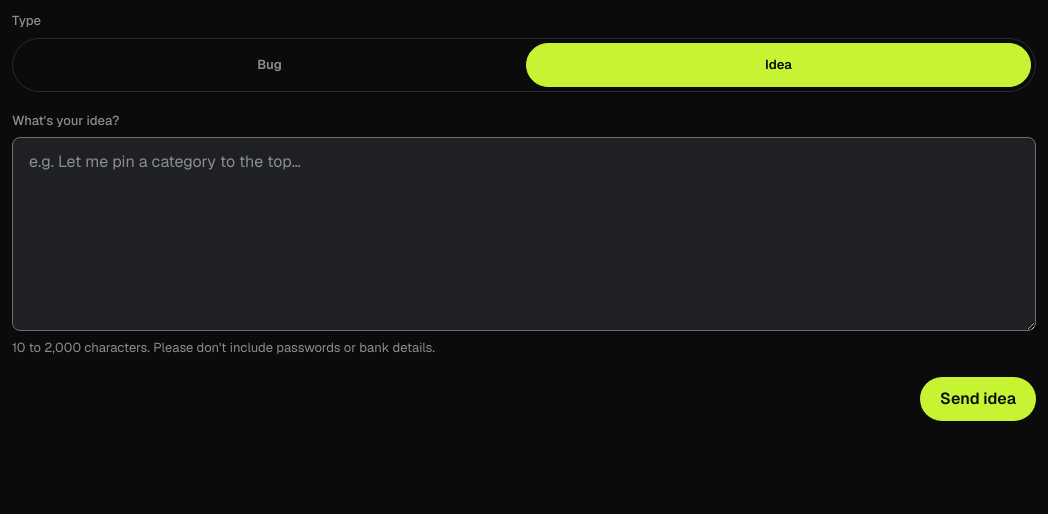
Test: FeedbackForm › shows the server's refusal and keeps the message
Type "Let me pin a category." into the text box labelled "What's your idea?" at (524, 234), box [12, 137, 1036, 331]
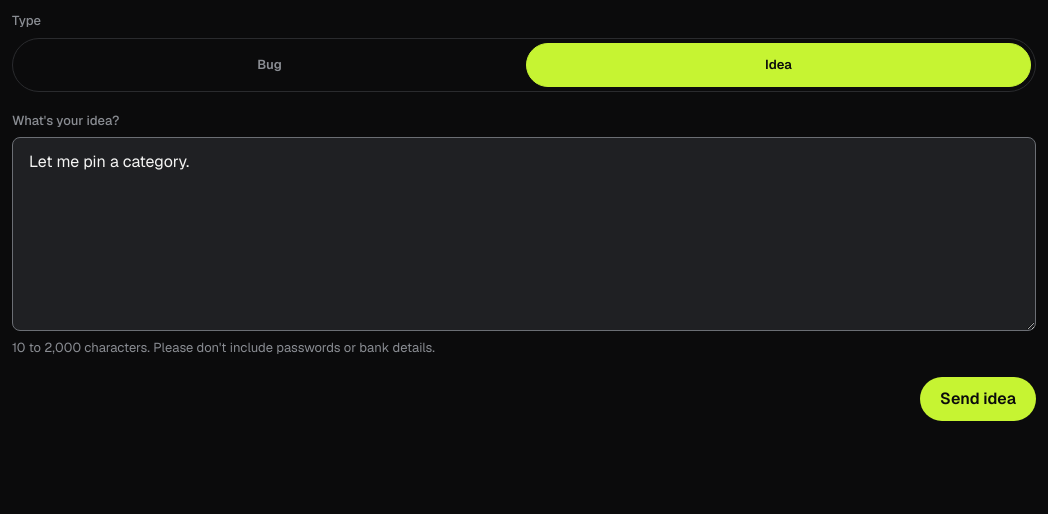
Click the button "Send idea" at (978, 399), box [920, 377, 1036, 421]
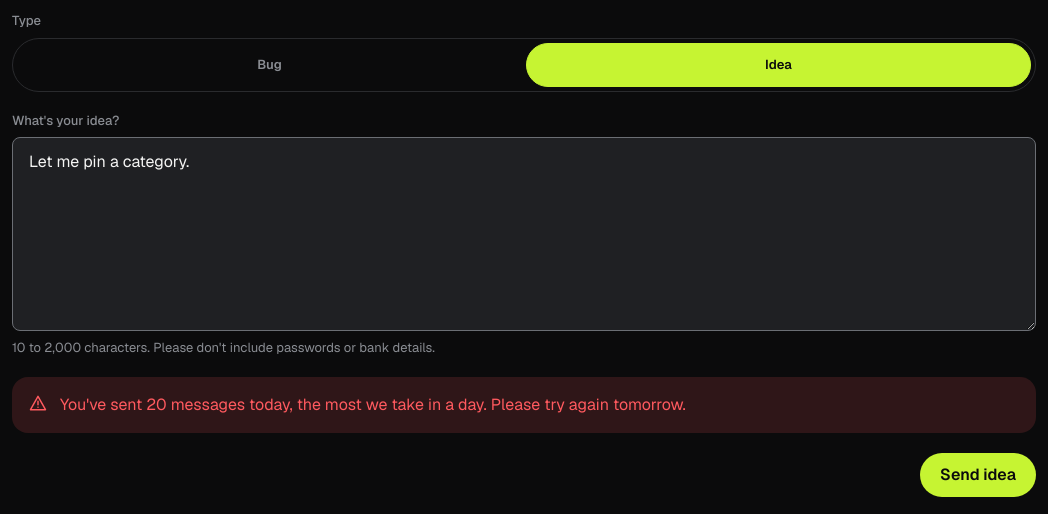
Check: the message shows "You've sent 20 messages today", box [60, 394, 686, 415]
